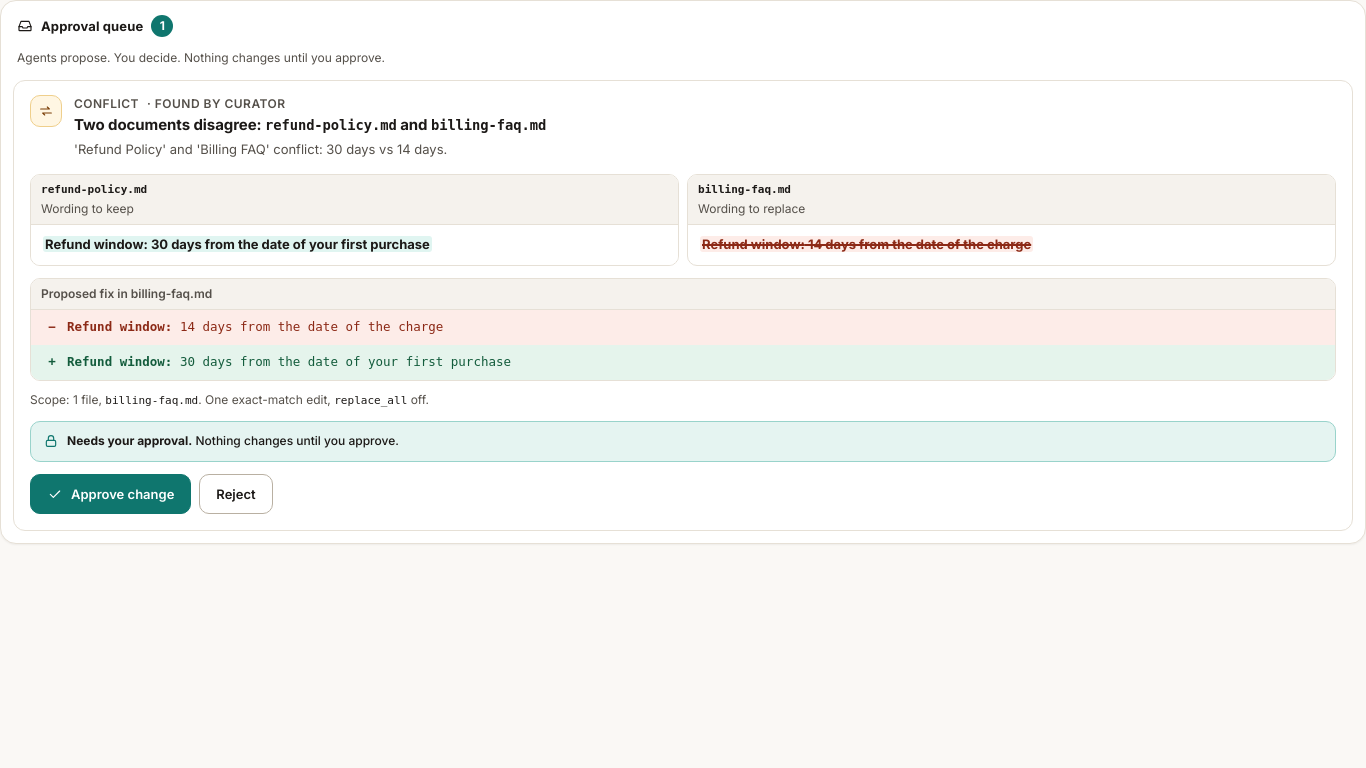
Test case: approval decisions › shows an inline message on 404, 422 and 429 and keeps the card
Click the button "Approve change" at x=111, y=494, box [30,474,191,514]
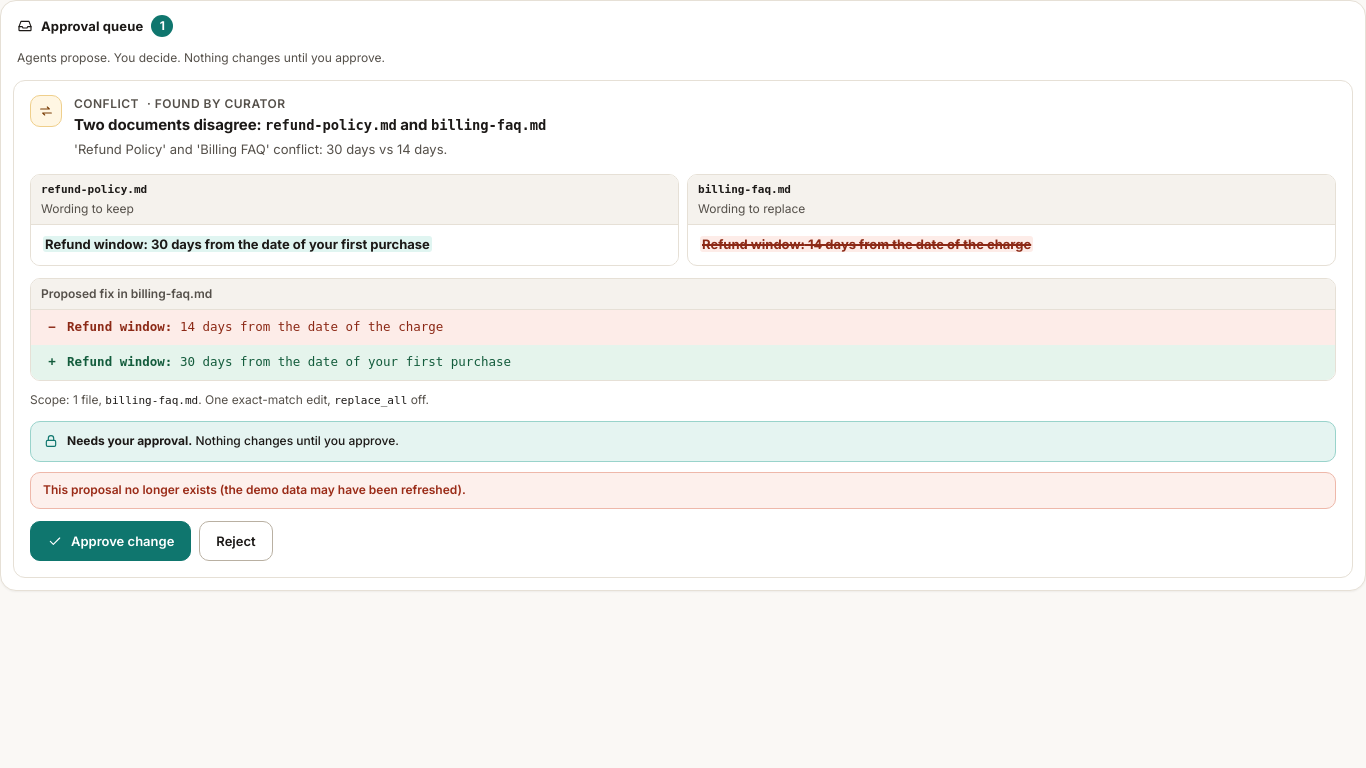
Check: the message shows "no longer exists", box [43,482,466,497]
Click the button "Approve change" at x=111, y=541, box [30,521,191,561]
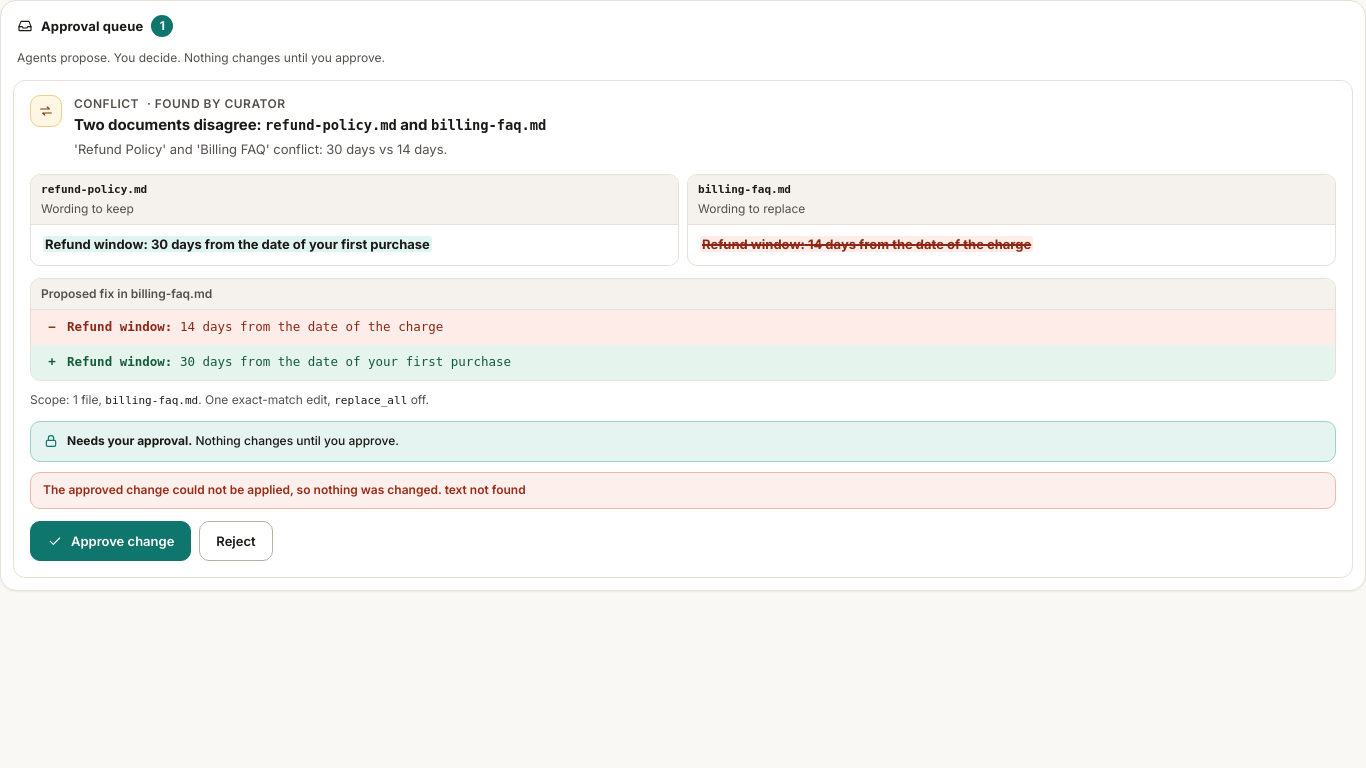
Check: the message shows "could not be applied", box [43,482,526,497]
Click the button "Approve change" at x=111, y=541, box [30,521,191,561]
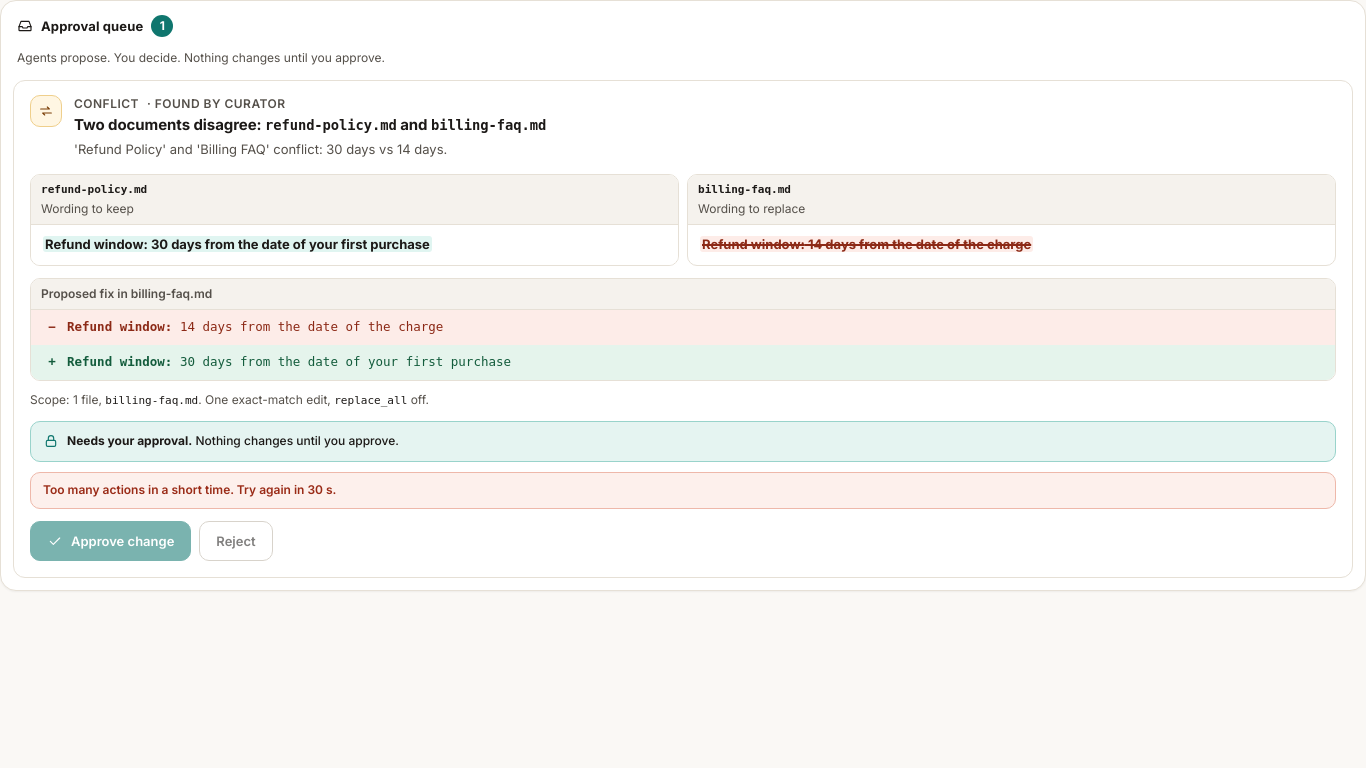
Check: the message shows "Try again in 30 s", box [43,482,336,497]
Check: the button "Approve change" is disabled, box [30,521,191,561]
